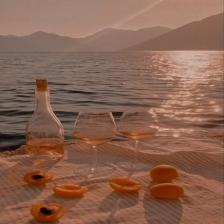orange: (30, 204, 64, 222), (150, 183, 184, 200), (110, 178, 141, 193), (53, 184, 88, 197), (152, 165, 178, 182), (24, 171, 52, 185)
